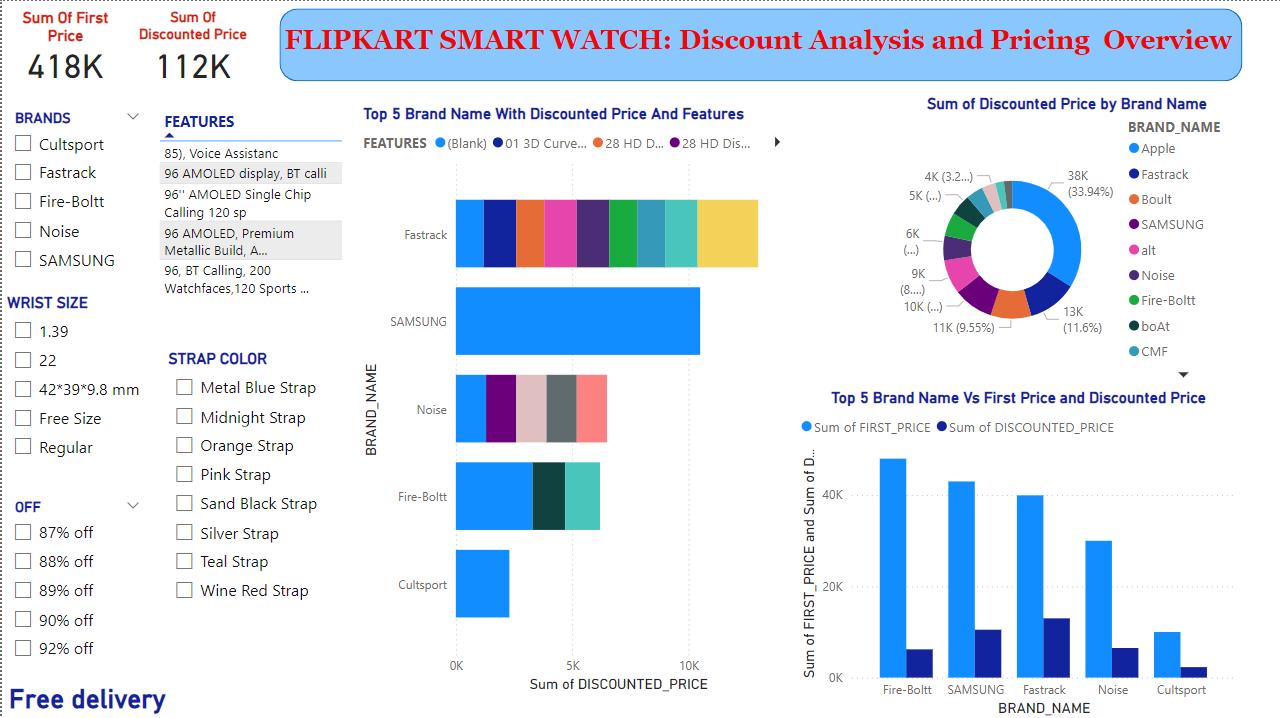

Layout of this report page (visuals, bound fields, positions):
{"tool":"powerbi","page":{"name":"Page 2","canvas":[1280,720],"ordinal":1},"visuals":[{"type":"shape","box":[277.1,7.1,962.9,72.9],"z":0},{"type":"textbox","box":[277.1,18.6,982.9,51.4],"z":1},{"type":"card","title":"Sum Of First Price","fields":{"Values":["Sum(SmartWatch.FIRST_PRICE)"]},"box":[0,7.1,127.1,75.7],"z":2},{"type":"card","title":"Sum Of Discounted Price","fields":{"Values":["Sum(SmartWatch.DISCOUNTED_PRICE)"]},"box":[127.1,7.1,127.1,75.7],"z":3},{"type":"slicer","fields":{"Values":["SmartWatch.BRAND_NAME"]},"box":[0,104.3,150,188.6],"z":4},{"type":"slicer","fields":{"Values":["SmartWatch.OFF"]},"box":[0,492.9,150,175.7],"z":5},{"type":"tableEx","fields":{"Values":["SmartWatch.FEATURES"]},"box":[151.4,104.3,204.3,228.6],"z":6},{"type":"card","fields":{"Values":["Min(SmartWatch.DELIVERY_OPTION)"]},"box":[0,674.3,171.4,45.7],"z":7},{"type":"slicer","title":"STRAP COLOR","fields":{"Values":["SmartWatch.STRAP_COLOR"]},"box":[161.4,348.6,184.3,267.1],"z":8},{"type":"slicer","title":"WRIST SIZE","fields":{"Values":["SmartWatch.WRIST_SIZE"]},"box":[0,292.9,161.4,188.6],"z":9},{"type":"barChart","title":"Top 5 Brand Name With  Discounted Price And Features","fields":{"Category":["SmartWatch.BRAND_NAME"],"Y":["Sum(SmartWatch.DISCOUNTED_PRICE)"],"Series":["SmartWatch.FEATURES"]},"box":[355.7,104.3,438.6,592.9],"z":10},{"type":"donutChart","title":"Sum of Discounted Price by Brand Name","fields":{"Category":["SmartWatch.BRAND_NAME"],"Y":["Sum(SmartWatch.DISCOUNTED_PRICE)"]},"box":[890,94.3,350,292.9],"z":11},{"type":"clusteredColumnChart","title":"Top 5 Brand Name Vs First Price and Discounted Price","fields":{"Category":["SmartWatch.BRAND_NAME"],"Y":["Sum(SmartWatch.FIRST_PRICE)","Sum(SmartWatch.DISCOUNTED_PRICE)"]},"box":[794.3,387.1,445.7,332.9],"z":12}]}

Visuals, with their boxes in screenshot pixels (x1, y1, x2, y2), scaled from the page's 1280x720 canvas onto the 1280x718 screenshot:
shape: (277, 7, 1240, 80)
textbox: (277, 19, 1260, 70)
"Sum Of First Price" card: (0, 7, 127, 83)
"Sum Of Discounted Price" card: (127, 7, 254, 83)
slicer - SmartWatch.BRAND_NAME: (0, 104, 150, 292)
slicer - SmartWatch.OFF: (0, 492, 150, 667)
tableEx - SmartWatch.FEATURES: (151, 104, 356, 332)
card - Min(SmartWatch.DELIVERY_OPTION): (0, 672, 171, 717)
"STRAP COLOR" slicer: (161, 348, 346, 614)
"WRIST SIZE" slicer: (0, 292, 161, 480)
"Top 5 Brand Name With  Discounted Price And Features" barChart: (356, 104, 794, 695)
"Sum of Discounted Price by Brand Name" donutChart: (890, 94, 1240, 386)
"Top 5 Brand Name Vs First Price and Discounted Price" clusteredColumnChart: (794, 386, 1240, 717)
